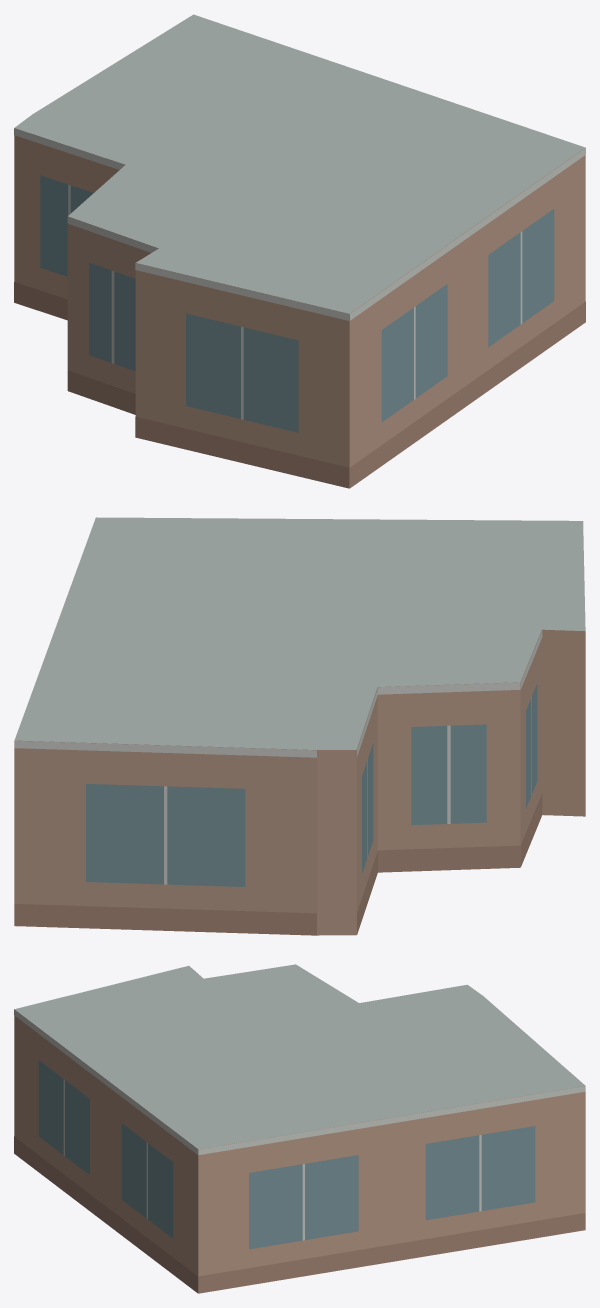
File: survey-upis-32920420.glb
3 renders of one model, top to bottom at view 1: azimuth 30°, elevation 25°; view 2: azimuth 150°, elevation 25°; view 3: azimuth 270°, elevation 25°, orthographic. The views are drawn at different scales.
Parts seen in each view (by area): view 1: survey-upis-32920420.tmp; view 2: survey-upis-32920420.tmp; view 3: survey-upis-32920420.tmp.
Part boxes in pixels (x1,y1,x2,y2): survey-upis-32920420.tmp: [14, 14, 585, 488]; survey-upis-32920420.tmp: [14, 517, 585, 935]; survey-upis-32920420.tmp: [14, 964, 585, 1293].
Size of the model in its own units: 8.4 by 3.05 by 10.96.
